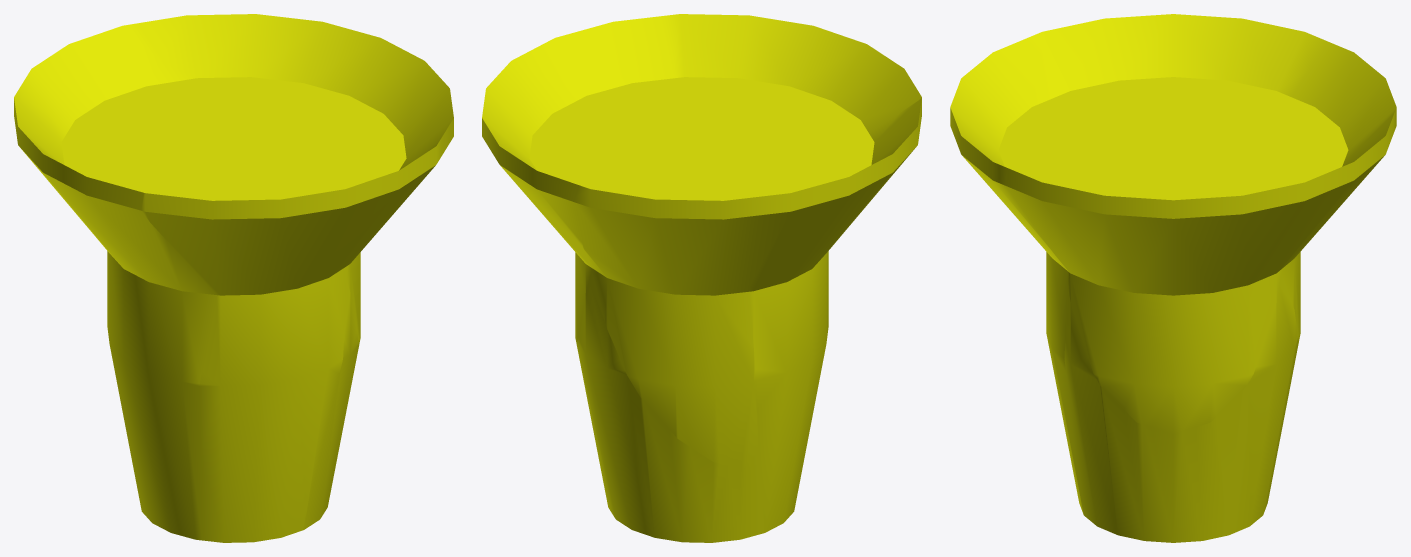
Rendered from ShatteredSpaceship.fbx.
3 views of the same model, side by side, from view 1: azimuth 30°, elevation 25°; view 2: azimuth 150°, elevation 25°; view 3: azimuth 270°, elevation 25° (orthographic).
Visible parts, largest first — view 1: shard4, shard2, shard1, shard5, shard3; view 2: shard5, shard2, shard1, shard4, shard3; view 3: shard1, shard2, shard3, shard4, shard5.
Boxes of the visible parts, x1,y1,x2,y2 form: shard4: (141, 138, 441, 542); shard2: (14, 83, 348, 540); shard1: (136, 14, 453, 346); shard5: (22, 23, 284, 327); shard3: (301, 280, 358, 530); shard5: (574, 126, 759, 468); shard2: (686, 98, 921, 533); shard1: (482, 16, 700, 346); shard4: (661, 14, 921, 133); shard3: (577, 272, 761, 542); shard1: (1005, 113, 1394, 434); shard2: (1044, 14, 1327, 181); shard3: (1064, 273, 1298, 542); shard4: (950, 31, 1082, 512); shard5: (1123, 42, 1396, 348).
Bounding box in the file's own units: 4.68 × 4.64 × 4.74.
